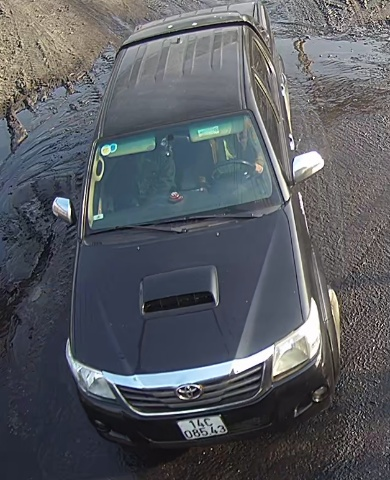vehicle plate: (172, 411, 231, 441)
